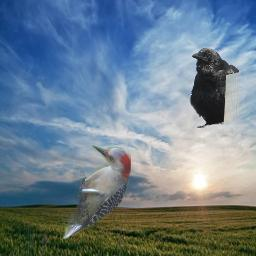Crow: (188, 47, 239, 128)
Woodpecker: (61, 145, 131, 241)
